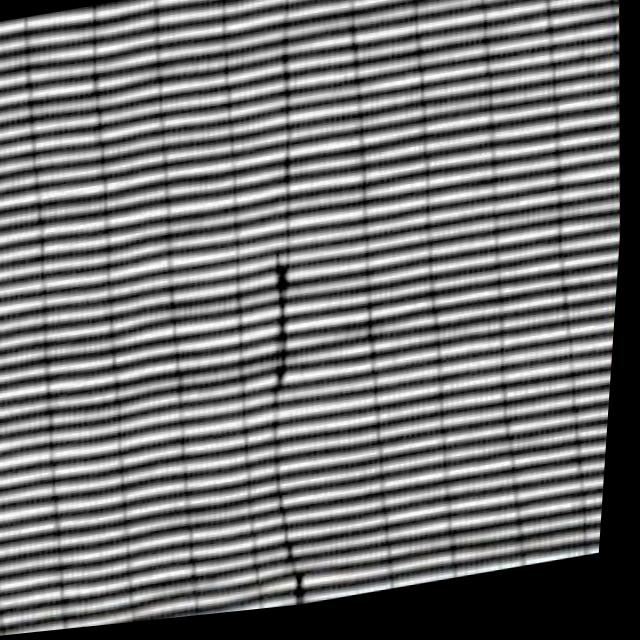Stitch: (195, 229, 388, 617)
